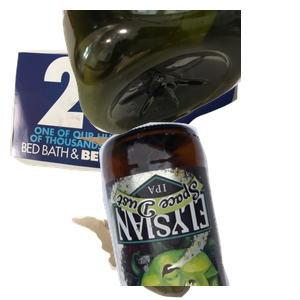glass: (97, 120, 300, 300)
paper: (10, 41, 242, 207)
plastic: (60, 10, 300, 139)
trash: (66, 137, 263, 300)
